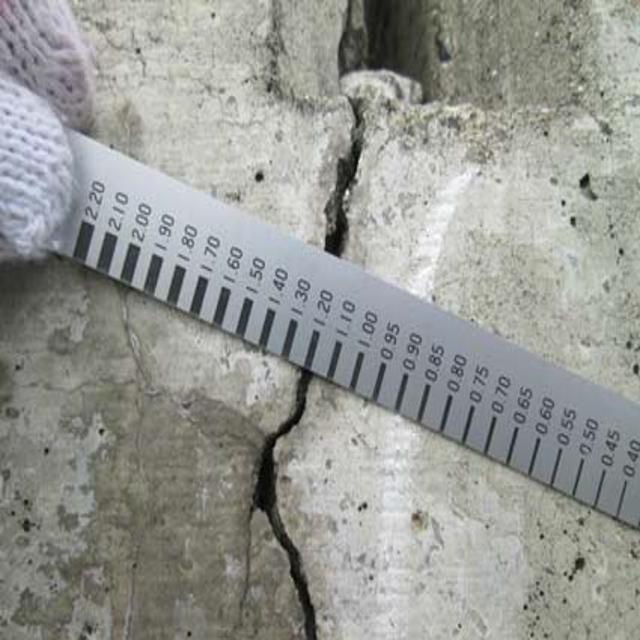crack: (224, 325, 338, 640), (280, 87, 390, 263)
